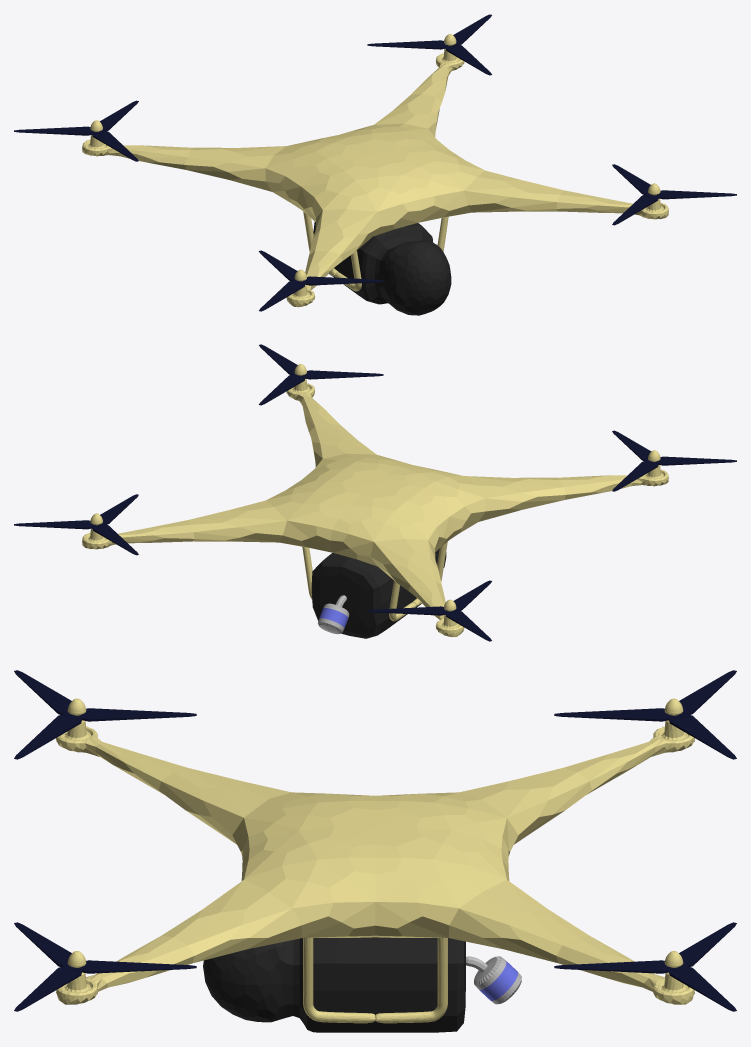
The model's file is UAVLamp.fbx.
3 views of the same model, one above another, from view 1: azimuth 30°, elevation 25°; view 2: azimuth 150°, elevation 25°; view 3: azimuth 270°, elevation 25° (orthographic). The views are drawn at different scales.
Parts seen in each view (by area): view 1: Cube.001_0, Cube, Cube.004_3, Cube.003_2, Cube.005_4, Cube.002_1; view 2: Cube.001_0, Cube, Cube.003_2, Cube.002_1, Cube.005_4, Cube.004_3; view 3: Cube.001_0, Cube, Cube.003_2, Cube.004_3, Cube.002_1, Cube.005_4.
Boxes of the visible parts, x1,y1,x2,y2 form: Cube.001_0: (82,34,668,307); Cube: (313,222,451,315); Cube.004_3: (259,250,383,311); Cube.003_2: (14,100,138,161); Cube.005_4: (612,164,736,225); Cube.002_1: (367,14,491,75); Cube.001_0: (82,364,668,637); Cube: (311,548,446,638); Cube.003_2: (367,580,491,641); Cube.002_1: (14,494,138,555); Cube.005_4: (259,344,383,405); Cube.004_3: (612,430,736,491); Cube.001_0: (56,698,694,1023); Cube: (203,937,521,1032); Cube.003_2: (554,670,736,759); Cube.004_3: (14,670,196,759); Cube.002_1: (554,922,736,1011); Cube.005_4: (14,922,196,1011).
Size of the model in its own units: 600 by 160 by 537.
